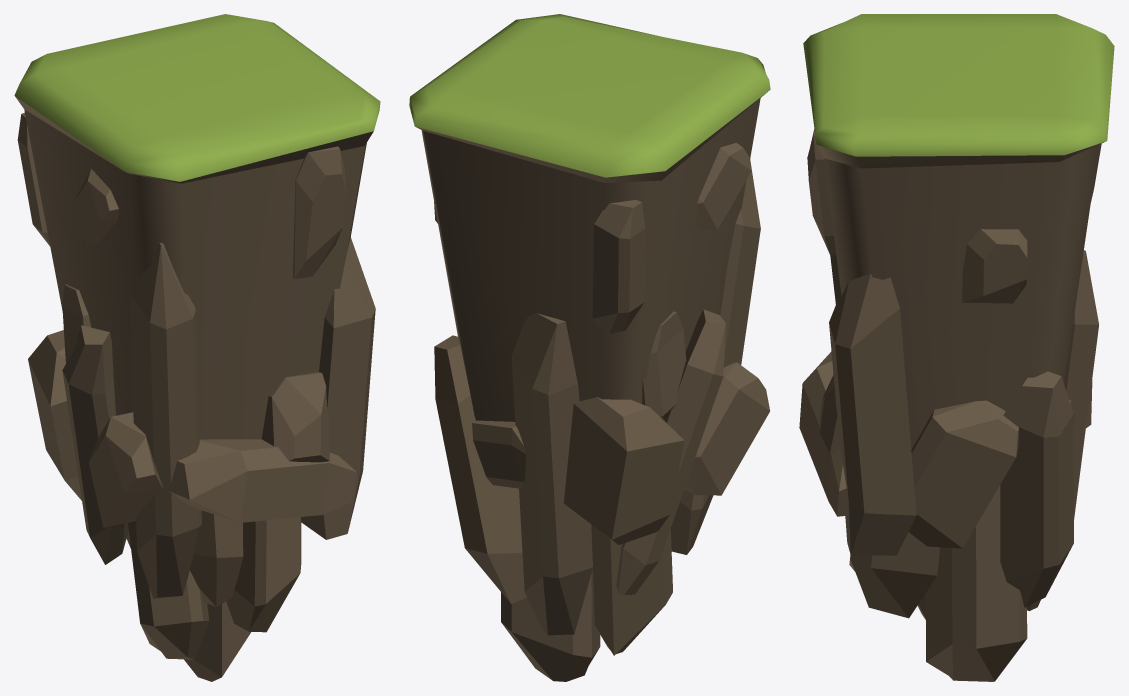
Rendered from Tile_Medium.fbx.
3 views of the same model, side by side, from view 1: azimuth 30°, elevation 25°; view 2: azimuth 150°, elevation 25°; view 3: azimuth 270°, elevation 25° (orthographic).
Parts seen in each view (by area): view 1: Tile_Medium1; view 2: Tile_Medium1; view 3: Tile_Medium1.
Part boxes in pixels (x1,y1,x2,y2): Tile_Medium1: [14, 14, 380, 681]; Tile_Medium1: [409, 14, 770, 681]; Tile_Medium1: [799, 14, 1114, 681].
Bounding box in the file's own units: 123 × 270 × 128.
